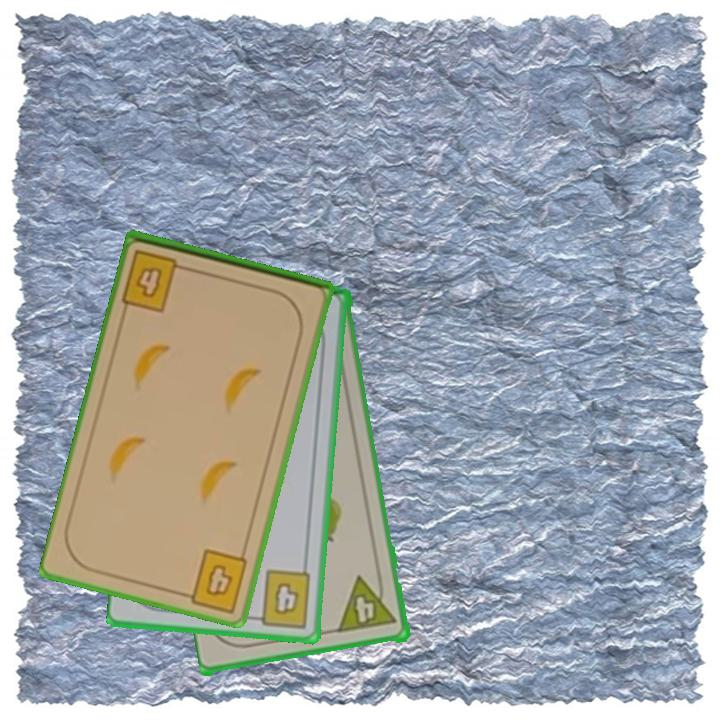4b: (119, 246, 194, 315), (178, 545, 251, 614), (248, 566, 314, 631)
4p: (335, 571, 400, 636)
